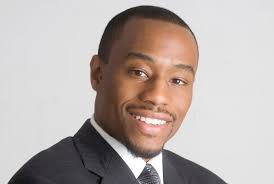s.black: (163, 88, 188, 113)
